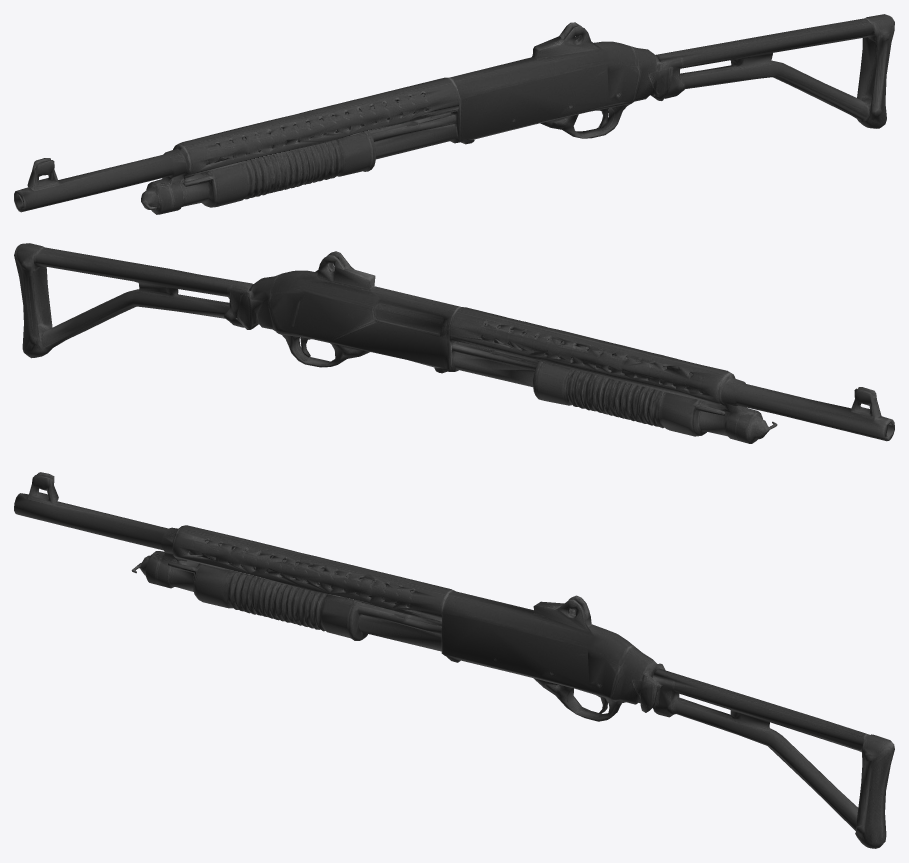
The model's file is wpn_shotgun.glb.
3 views of the same model, one above another, from view 1: azimuth 30°, elevation 25°; view 2: azimuth 150°, elevation 25°; view 3: azimuth 330°, elevation 25° (orthographic).
Visible parts, largest first — view 1: Mesh_0; view 2: Mesh_0; view 3: Mesh_0.
Boxes of the visible parts, left/top/right/bottom form: Mesh_0: left=14, top=14, right=894, bottom=214; Mesh_0: left=14, top=243, right=894, bottom=443; Mesh_0: left=14, top=472, right=894, bottom=848.
Bounding box in the file's own units: 1.9 × 0.3651 × 0.0934.
1 material, 1 textured.
